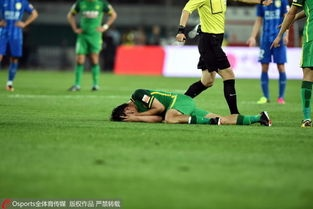falling: (109, 82, 268, 127)
